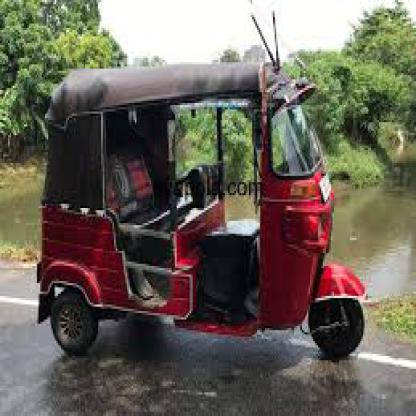tuk: (37, 50, 366, 361)
